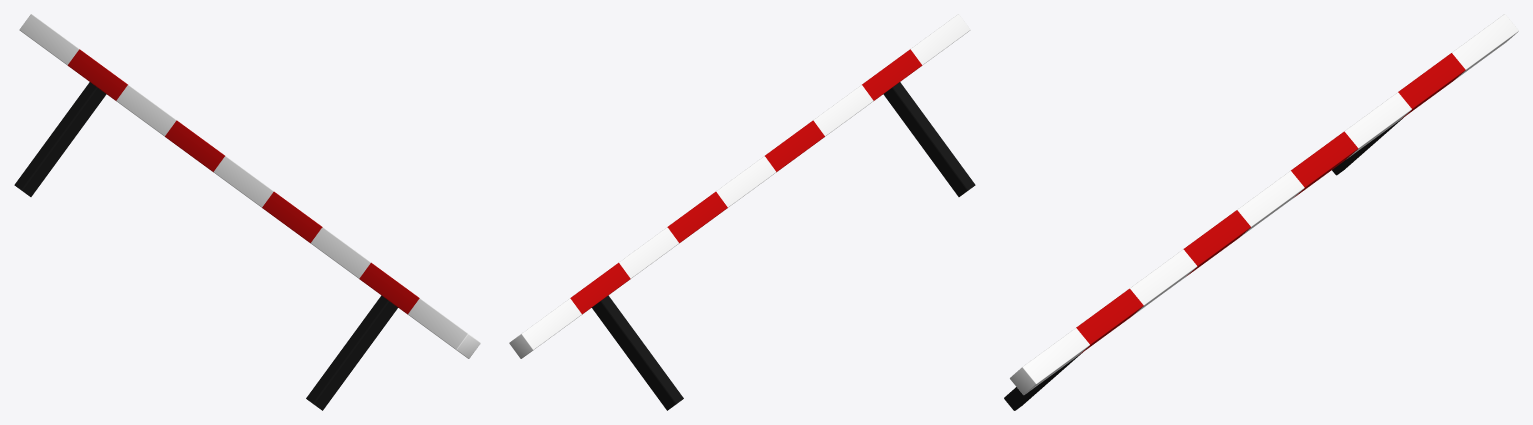
The model's file is railD.fbx.
3 views of the same model, side by side, from view 1: azimuth 30°, elevation 25°; view 2: azimuth 150°, elevation 25°; view 3: azimuth 330°, elevation 25° (orthographic). The views are drawn at different scales.
Visible parts, largest first — view 1: railDcolider, railDbase; view 2: railDcolider, railDbase; view 3: railDcolider, railDbase.
Boxes of the visible parts, box(x1,y1,x2,y2) form: railDcolider: box(19, 14, 480, 358); railDbase: box(14, 82, 397, 410); railDcolider: box(509, 14, 970, 358); railDbase: box(592, 82, 975, 410); railDcolider: box(1010, 14, 1518, 395); railDbase: box(1004, 117, 1403, 410).
Bounding box in the file's own units: 35.79 × 37.81 × 274.
